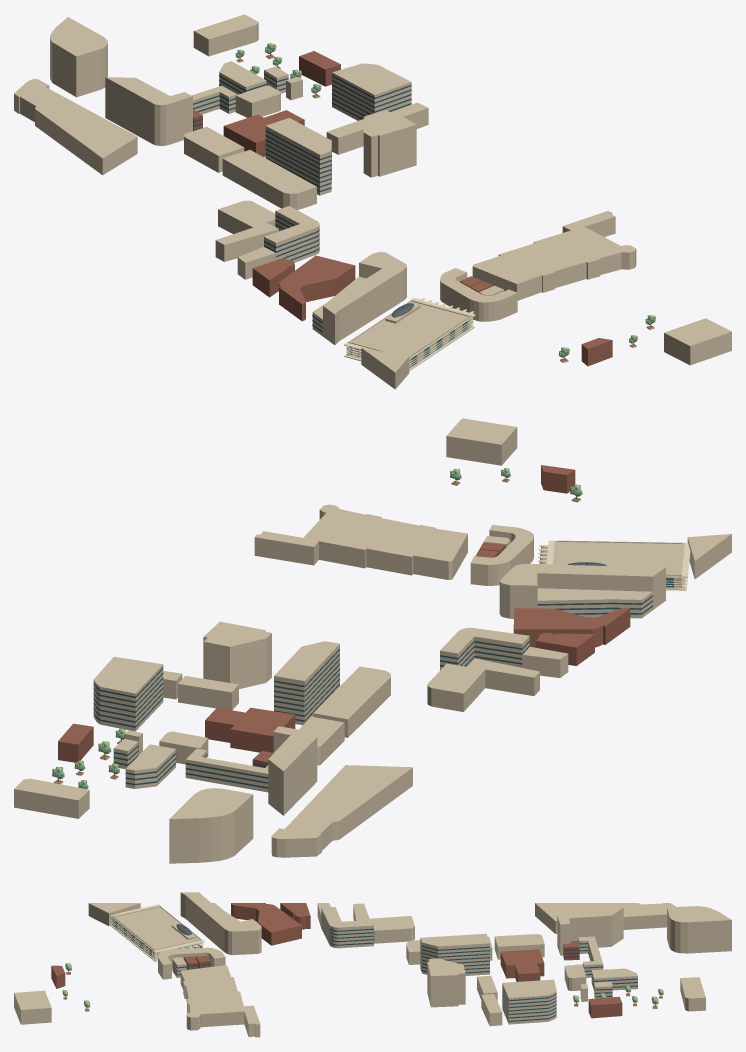
3 renders of one model, top to bottom at view 1: azimuth 30°, elevation 25°; view 2: azimuth 150°, elevation 25°; view 3: azimuth 270°, elevation 25°, orthographic. The views are drawn at different scales.
Parts seen in each view (by area): view 1: osm-way-744266710, osm-way-744525761, postal-museum.001, osm-way-1196303149, osm-way-130396592, osm-way-744527947, osm-way-494546990, osm-way-1330827683, osm-way-446939582, osm-way-1330827682, osm-way-744268773, osm-way-446939581 (+15 smaller); view 2: osm-way-744266710, osm-way-744525761, osm-way-744527947, osm-way-130396592, osm-way-494546990, postal-museum.001, osm-way-1330827683, osm-way-1330827682, osm-way-446939581, osm-way-1196303149, osm-way-744268773, osm-way-446939582 (+16 smaller); view 3: osm-way-744266710, postal-museum.001, osm-way-744527947, osm-way-130396592, osm-way-1196303149, osm-way-1330827683, osm-way-494546990, osm-way-744525761, osm-way-744268773, osm-way-1330827682, osm-way-446939660, osm-way-446939581 (+17 smaller).
Part boxes in pixels (x1,y1,x2,y2): osm-way-744266710: [472, 211, 636, 300]; osm-way-744525761: [14, 79, 137, 175]; postal-museum.001: [344, 298, 475, 370]; osm-way-1196303149: [105, 77, 192, 145]; osm-way-130396592: [323, 252, 406, 344]; osm-way-744527947: [50, 17, 107, 97]; osm-way-494546990: [332, 63, 411, 120]; osm-way-1330827683: [265, 118, 331, 195]; osm-way-446939582: [222, 150, 316, 210]; osm-way-1330827682: [363, 110, 416, 177]; osm-way-744268773: [279, 255, 355, 321]; osm-way-446939581: [215, 200, 278, 261]; osm-way-744266710: [254, 504, 467, 579]; osm-way-744525761: [271, 765, 412, 857]; osm-way-744527947: [169, 788, 253, 863]; osm-way-130396592: [499, 564, 665, 618]; osm-way-494546990: [93, 656, 163, 731]; postal-museum.001: [538, 540, 690, 590]; osm-way-1330827683: [274, 641, 339, 725]; osm-way-1330827682: [203, 621, 271, 688]; osm-way-446939581: [427, 658, 539, 711]; osm-way-1196303149: [268, 726, 317, 815]; osm-way-744268773: [513, 607, 630, 647]; osm-way-446939582: [313, 666, 390, 737]; osm-way-744266710: [180, 965, 260, 1037]; postal-museum.001: [110, 904, 204, 961]; osm-way-744527947: [667, 906, 731, 953]; osm-way-130396592: [180, 892, 261, 955]; osm-way-1196303149: [557, 907, 623, 955]; osm-way-1330827683: [420, 933, 489, 975]; osm-way-494546990: [502, 979, 556, 1024]; osm-way-744525761: [535, 903, 675, 933]; osm-way-744268773: [231, 903, 301, 945]; osm-way-1330827682: [427, 958, 465, 1007]; osm-way-446939660: [321, 907, 373, 948]; osm-way-446939581: [353, 903, 414, 943].
Bounding box in the file's own units: 306 × 36 × 751.
